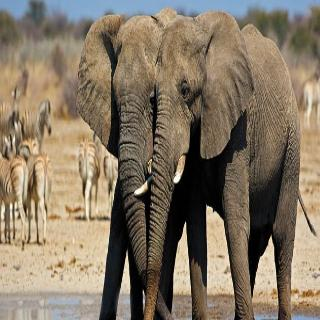Elephant: (133, 10, 320, 320), (76, 10, 215, 320)
